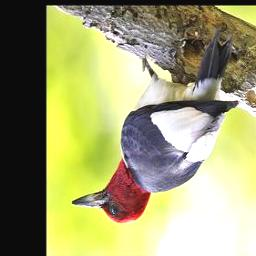Woodpecker: (73, 28, 238, 222)
